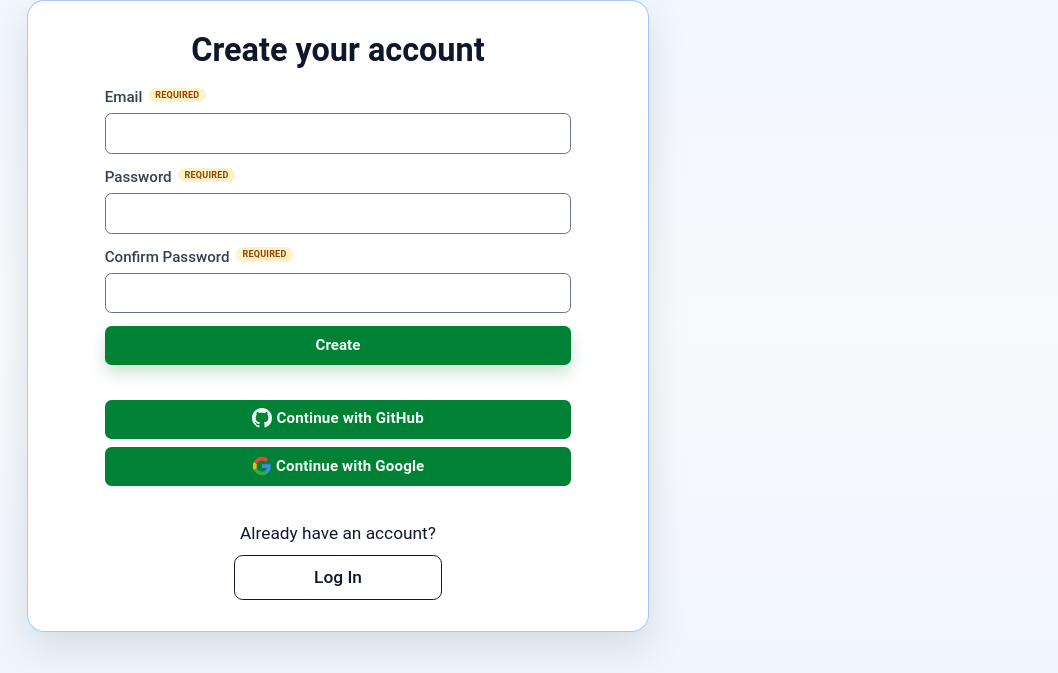
it: SignUp Form Submit › shows error message when signUp throws
Type "newemail@mail.com" into the field labelled "Email required" at (338, 134), box [105,113,571,154]
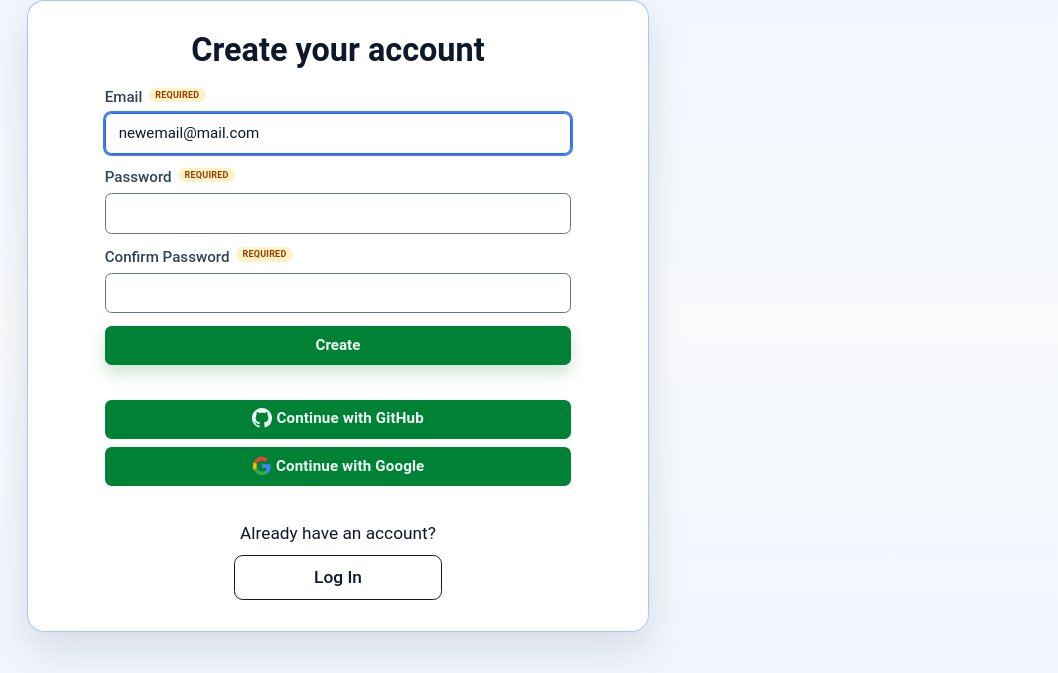
Type "Password123" into the password field labelled "Password required" at (338, 213), box [105,193,571,234]
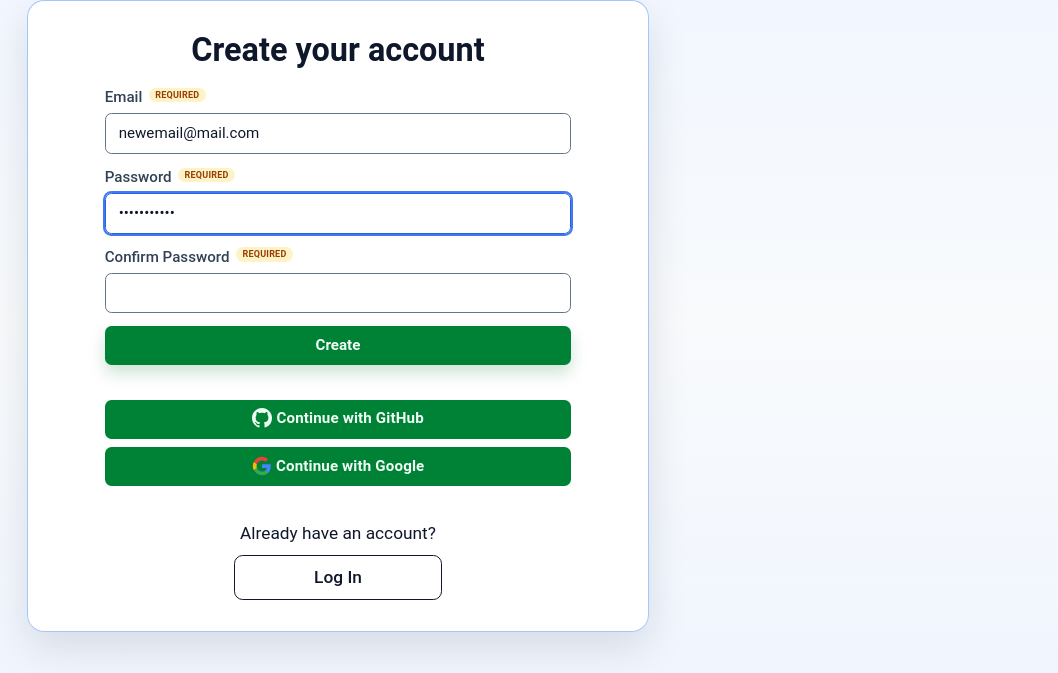
Type "Password123" into the password field labelled "Confirm Password required" at (338, 293), box [105,273,571,313]
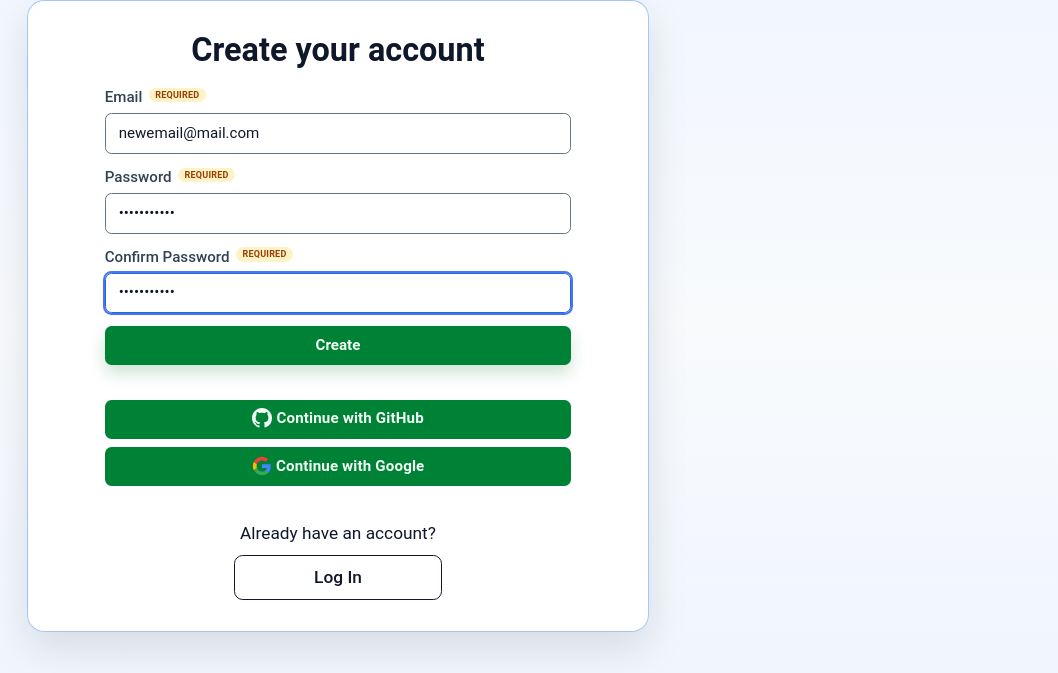
Click the button "Create" at (338, 346), box [105,326,571,365]
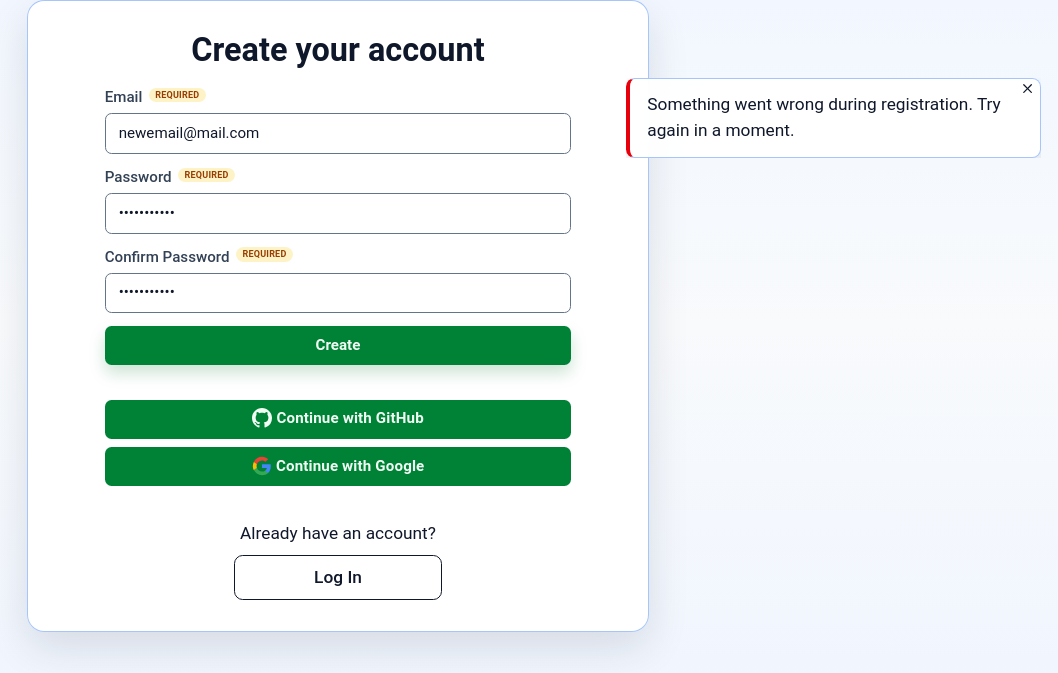
Expected: the text "Something went wrong during registration" is shown, [647,94,1001,140]
